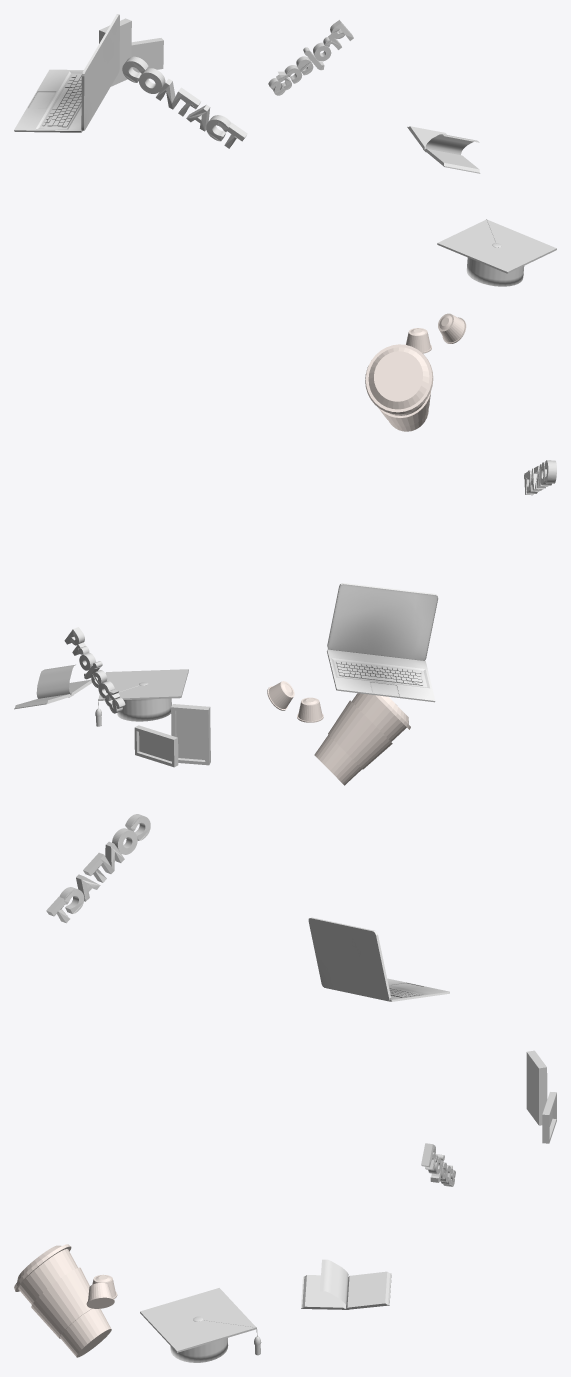
File: scroll.glb
3 renders of one model, top to bottom at view 1: azimuth 30°, elevation 25°; view 2: azimuth 150°, elevation 25°; view 3: azimuth 270°, elevation 25°, orthographic. The views are drawn at different scales.
Visible parts, largest first — view 1: Coffee, Notebook, hat, Contect, Text, Book, picture; view 2: Notebook, Coffee, picture, hat, Text, Book, Contect; view 3: Coffee, Notebook, hat, Book, Contect, picture, Text.
Part boxes in pixels (left/top/right/bottom): Coffee: left=365, top=313, right=466, bottom=431; Notebook: left=14, top=14, right=119, bottom=132; hat: left=437, top=219, right=556, bottom=286; Contect: left=122, top=56, right=247, bottom=148; Text: left=268, top=20, right=353, bottom=95; Book: left=407, top=126, right=480, bottom=173; picture: left=99, top=18, right=163, bottom=86; Notebook: left=327, top=583, right=438, bottom=702; Coffee: left=267, top=681, right=410, bottom=785; picture: left=134, top=704, right=210, bottom=767; hat: left=95, top=669, right=188, bottom=726; Text: left=64, top=627, right=125, bottom=713; Book: left=14, top=664, right=92, bottom=709; Contect: left=524, top=460, right=556, bottom=495; Coffee: left=14, top=1244, right=117, bottom=1357; Notebook: left=308, top=917, right=449, bottom=1001; hat: left=140, top=1288, right=261, bottom=1362; Book: left=301, top=1259, right=391, bottom=1309; Contect: left=46, top=814, right=150, bottom=923; picture: left=526, top=1050, right=556, bottom=1143; Text: left=421, top=1143, right=455, bottom=1186.
Bounding box in the file's own units: 21.44 × 18.77 × 22.02.
Materials: 7 (1 with a texture image).
